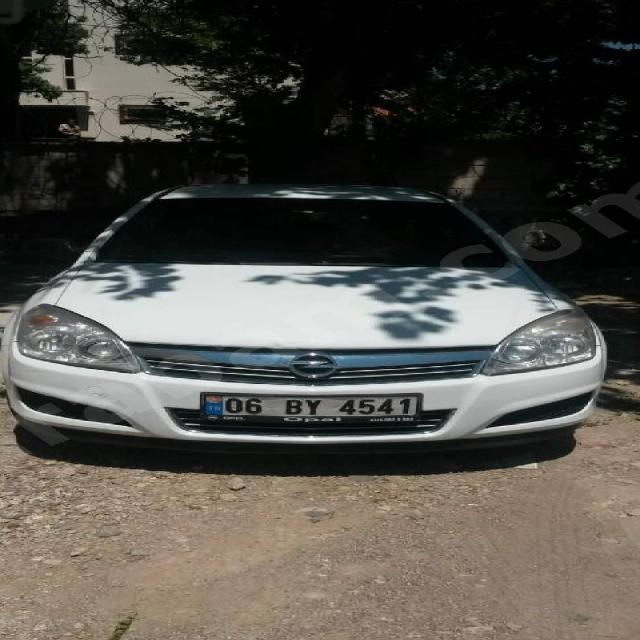license_plate: (200, 395, 420, 416)
